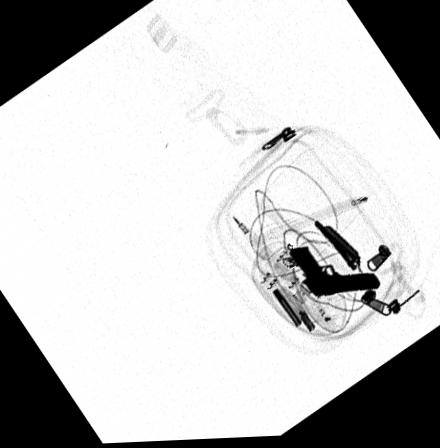Gun: (287, 244, 381, 302)
